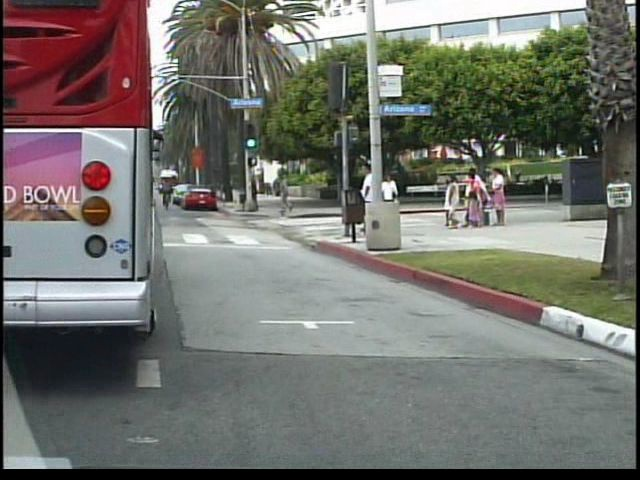person: (361, 161, 385, 239), (382, 168, 405, 229), (278, 170, 297, 212)
